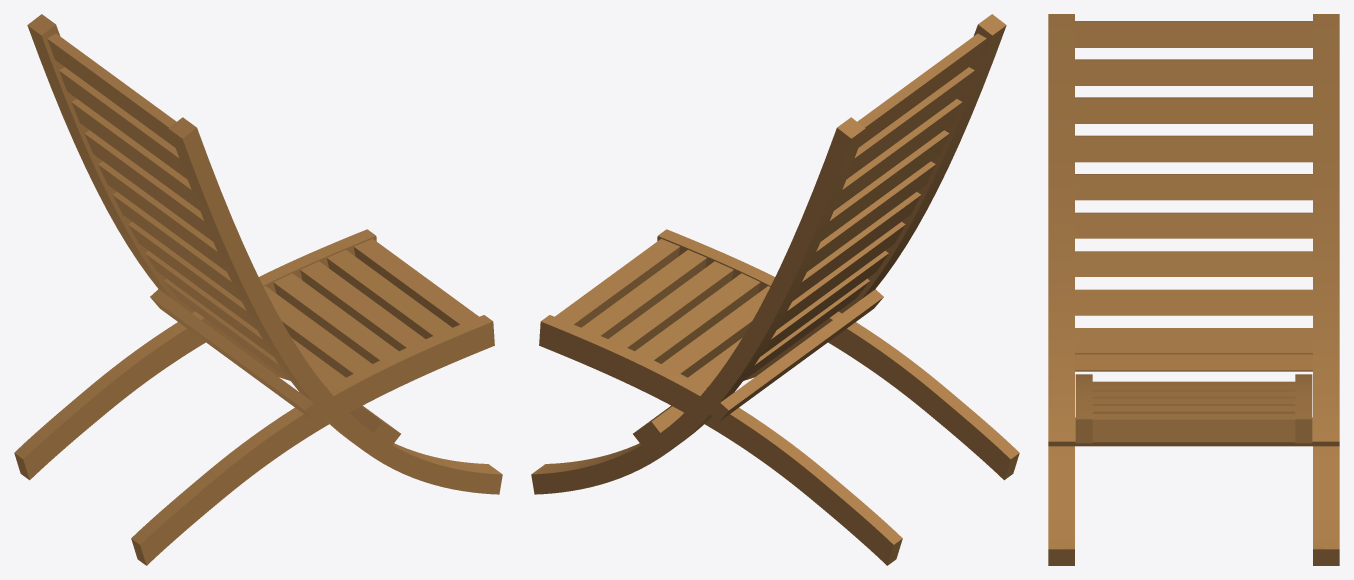
The model's file is beachchair.fbx.
The picture shows the model from 3 angles, left to right: view 1: azimuth 30°, elevation 25°; view 2: azimuth 150°, elevation 25°; view 3: azimuth 270°, elevation 25°; orthographic projection. The views are drawn at different scales.
Visible parts, largest first — view 1: BeachChair; view 2: BeachChair; view 3: BeachChair.
Boxes of the visible parts, x1,y1,x2,y2 form: BeachChair: (14,14,502,565); BeachChair: (531,14,1019,565); BeachChair: (1048,14,1339,565).
Bounding box in the file's own units: 415 × 493 × 315.
